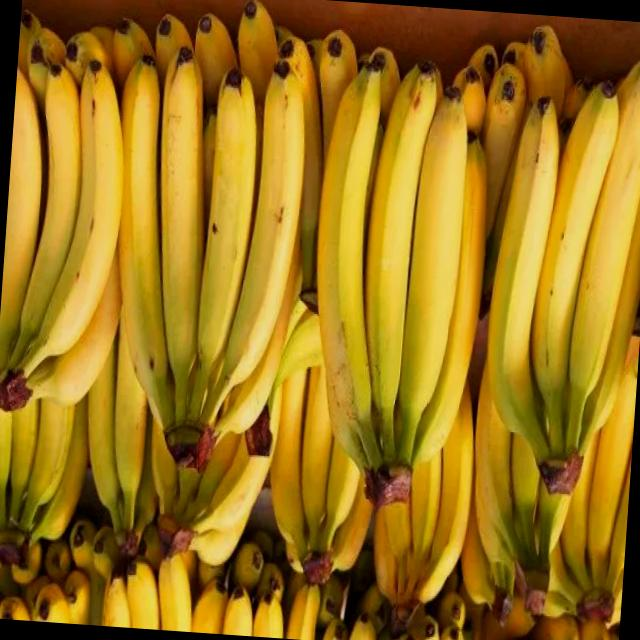chuoi: (0, 1, 640, 640)
